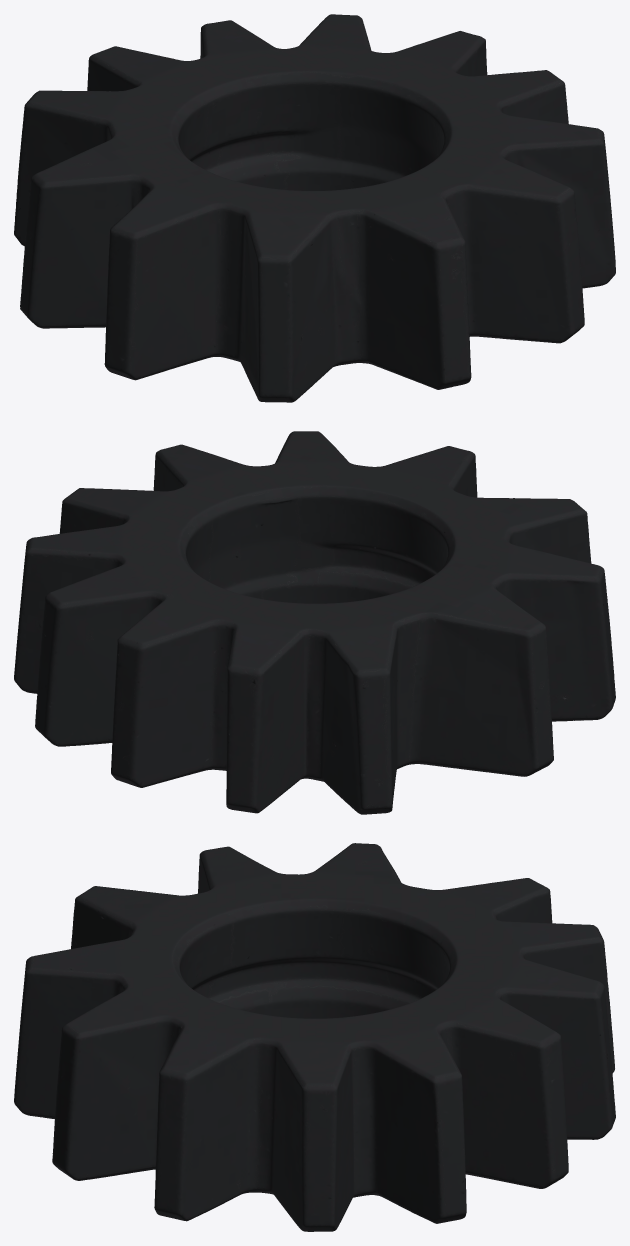
3 renders of one model, top to bottom at view 1: azimuth 30°, elevation 25°; view 2: azimuth 150°, elevation 25°; view 3: azimuth 270°, elevation 25°, orthographic.
Bounding box in the file's own units: 1.9 × 0.5278 × 1.89.
Materials: 1 (1 with a texture image).
